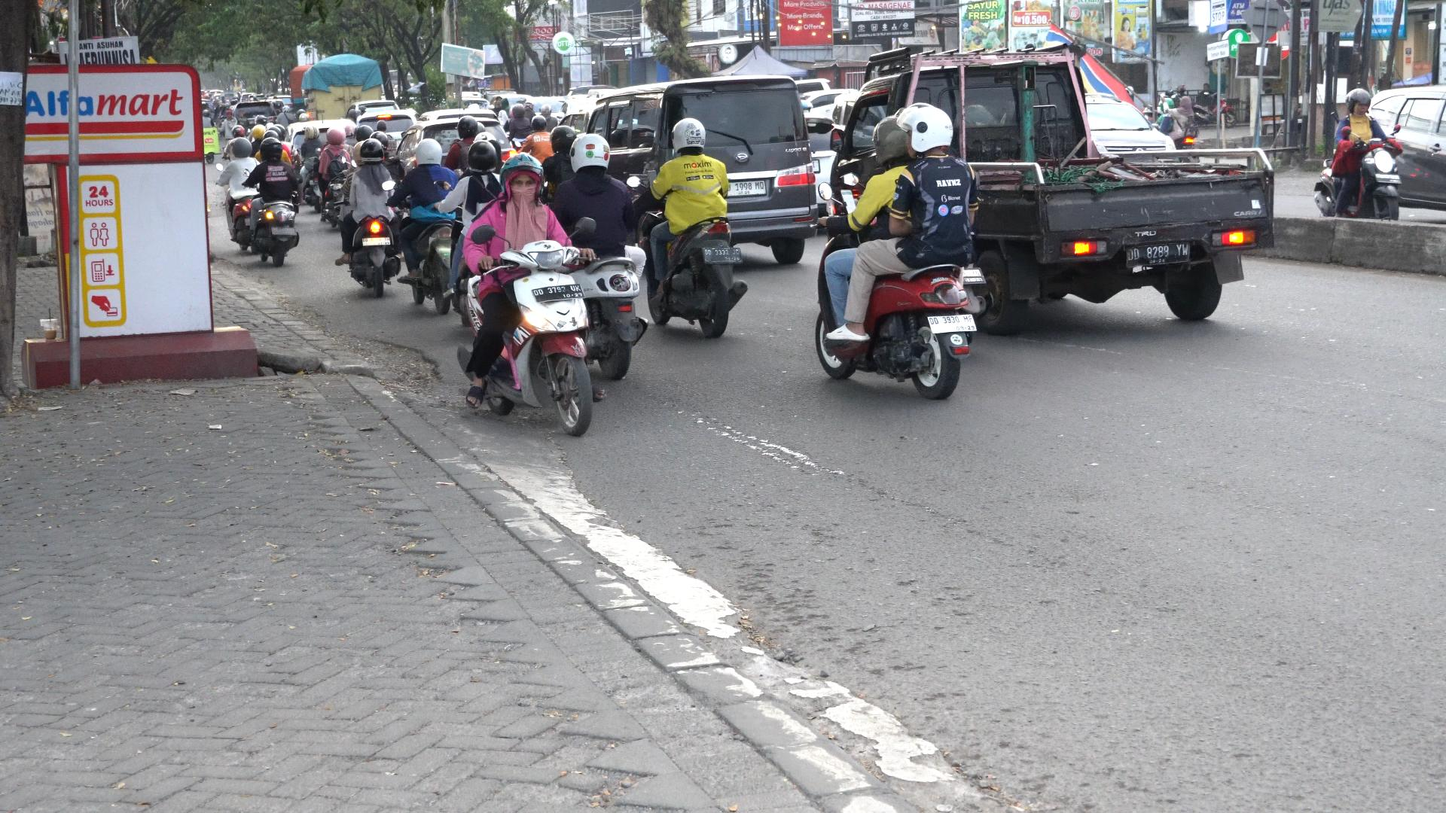number-plate: (530, 281, 588, 304)
